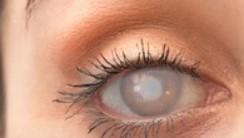eye: (122, 67, 182, 115)
